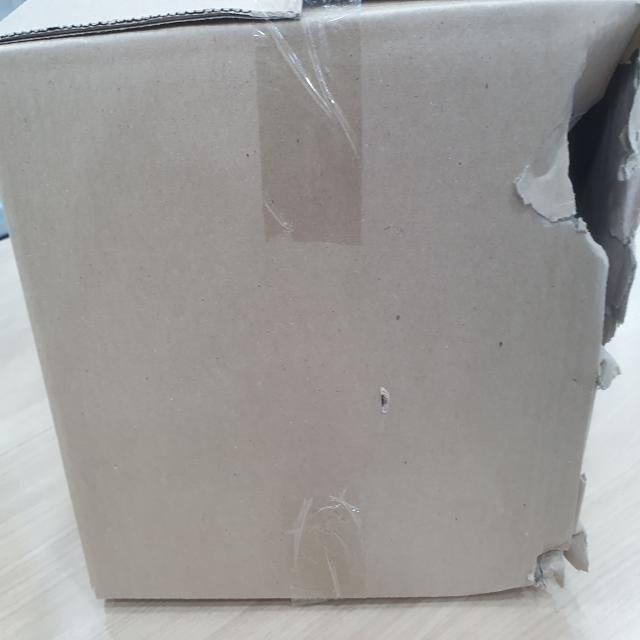hole: (551, 6, 639, 327), (521, 532, 597, 604)
